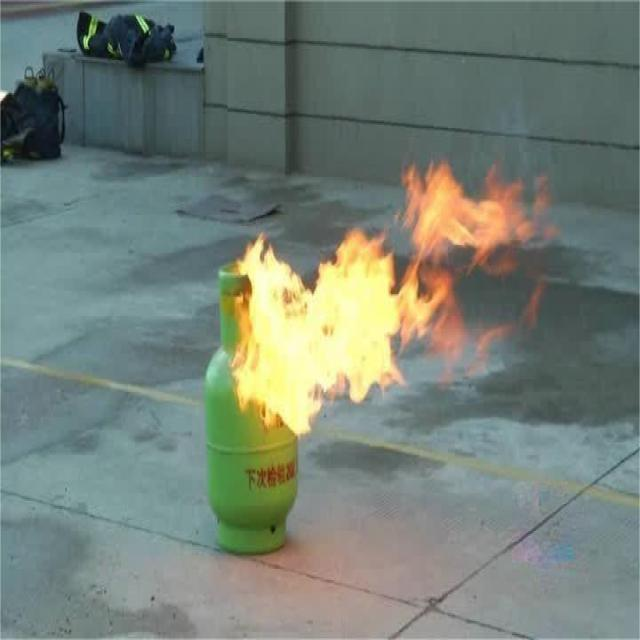Fire: (232, 162, 534, 442)
